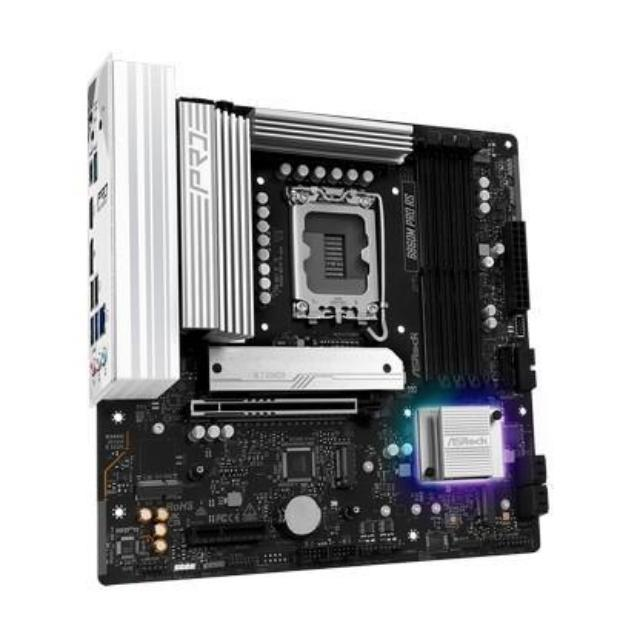Mainboard: (59, 56, 550, 596)
